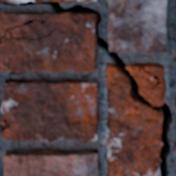brick: (1, 79, 98, 141), (0, 12, 97, 71), (108, 0, 166, 51), (4, 149, 99, 175), (34, 0, 95, 2), (3, 0, 27, 1)
broken_brick: (105, 62, 161, 175), (128, 62, 166, 104)
crack: (0, 0, 173, 175), (0, 16, 57, 44), (0, 118, 11, 133), (2, 82, 20, 86)
